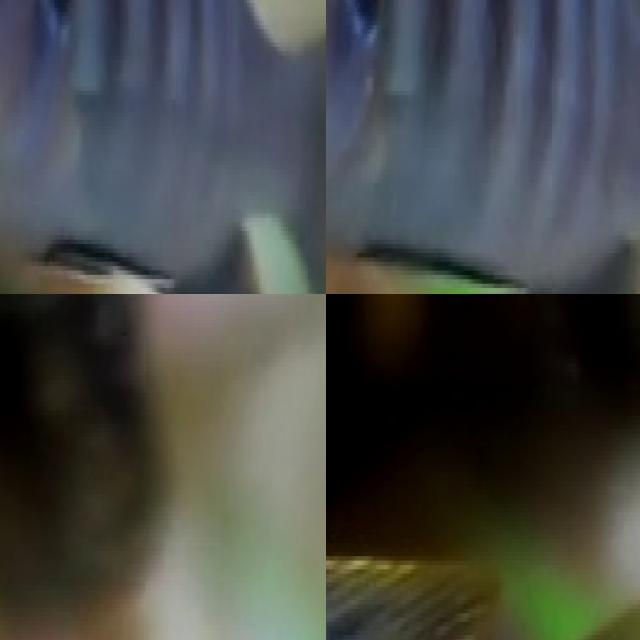fish: (0, 0, 326, 294), (326, 294, 640, 481)
